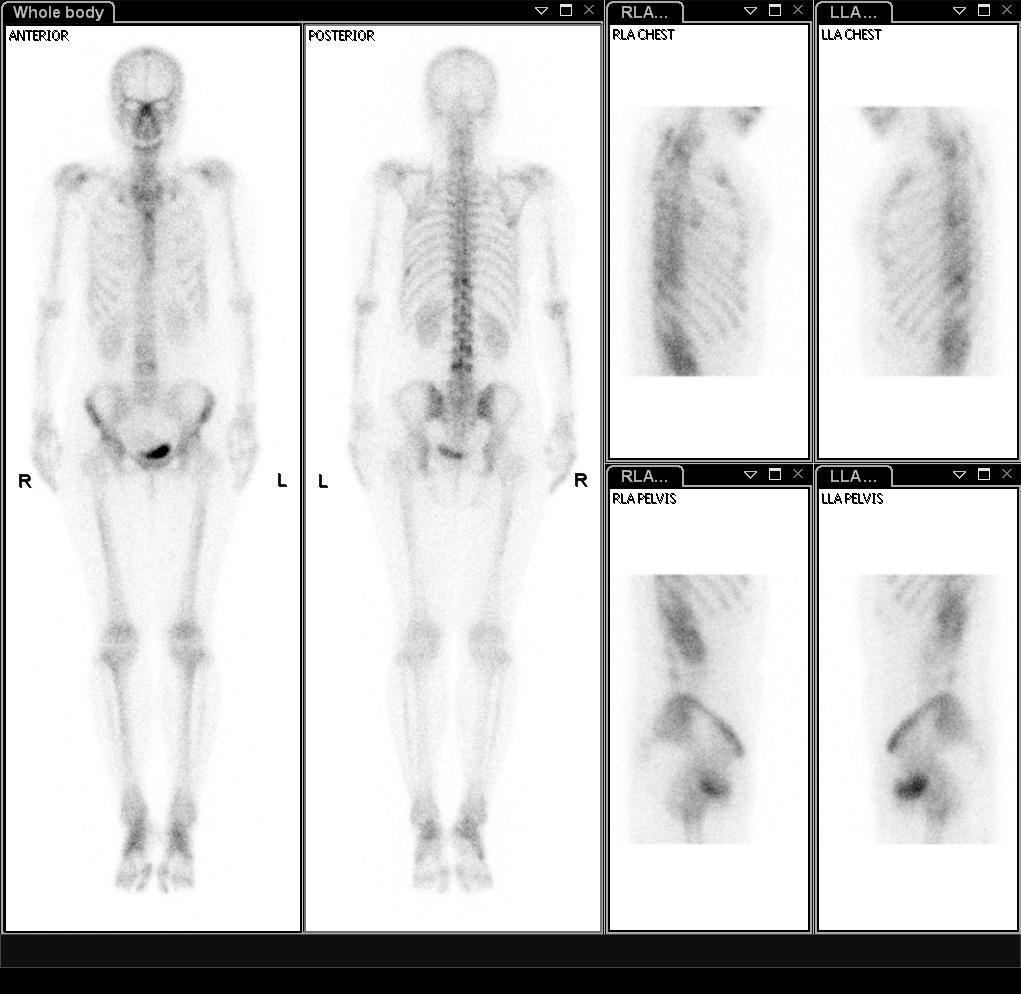person: (3, 26, 602, 930)
